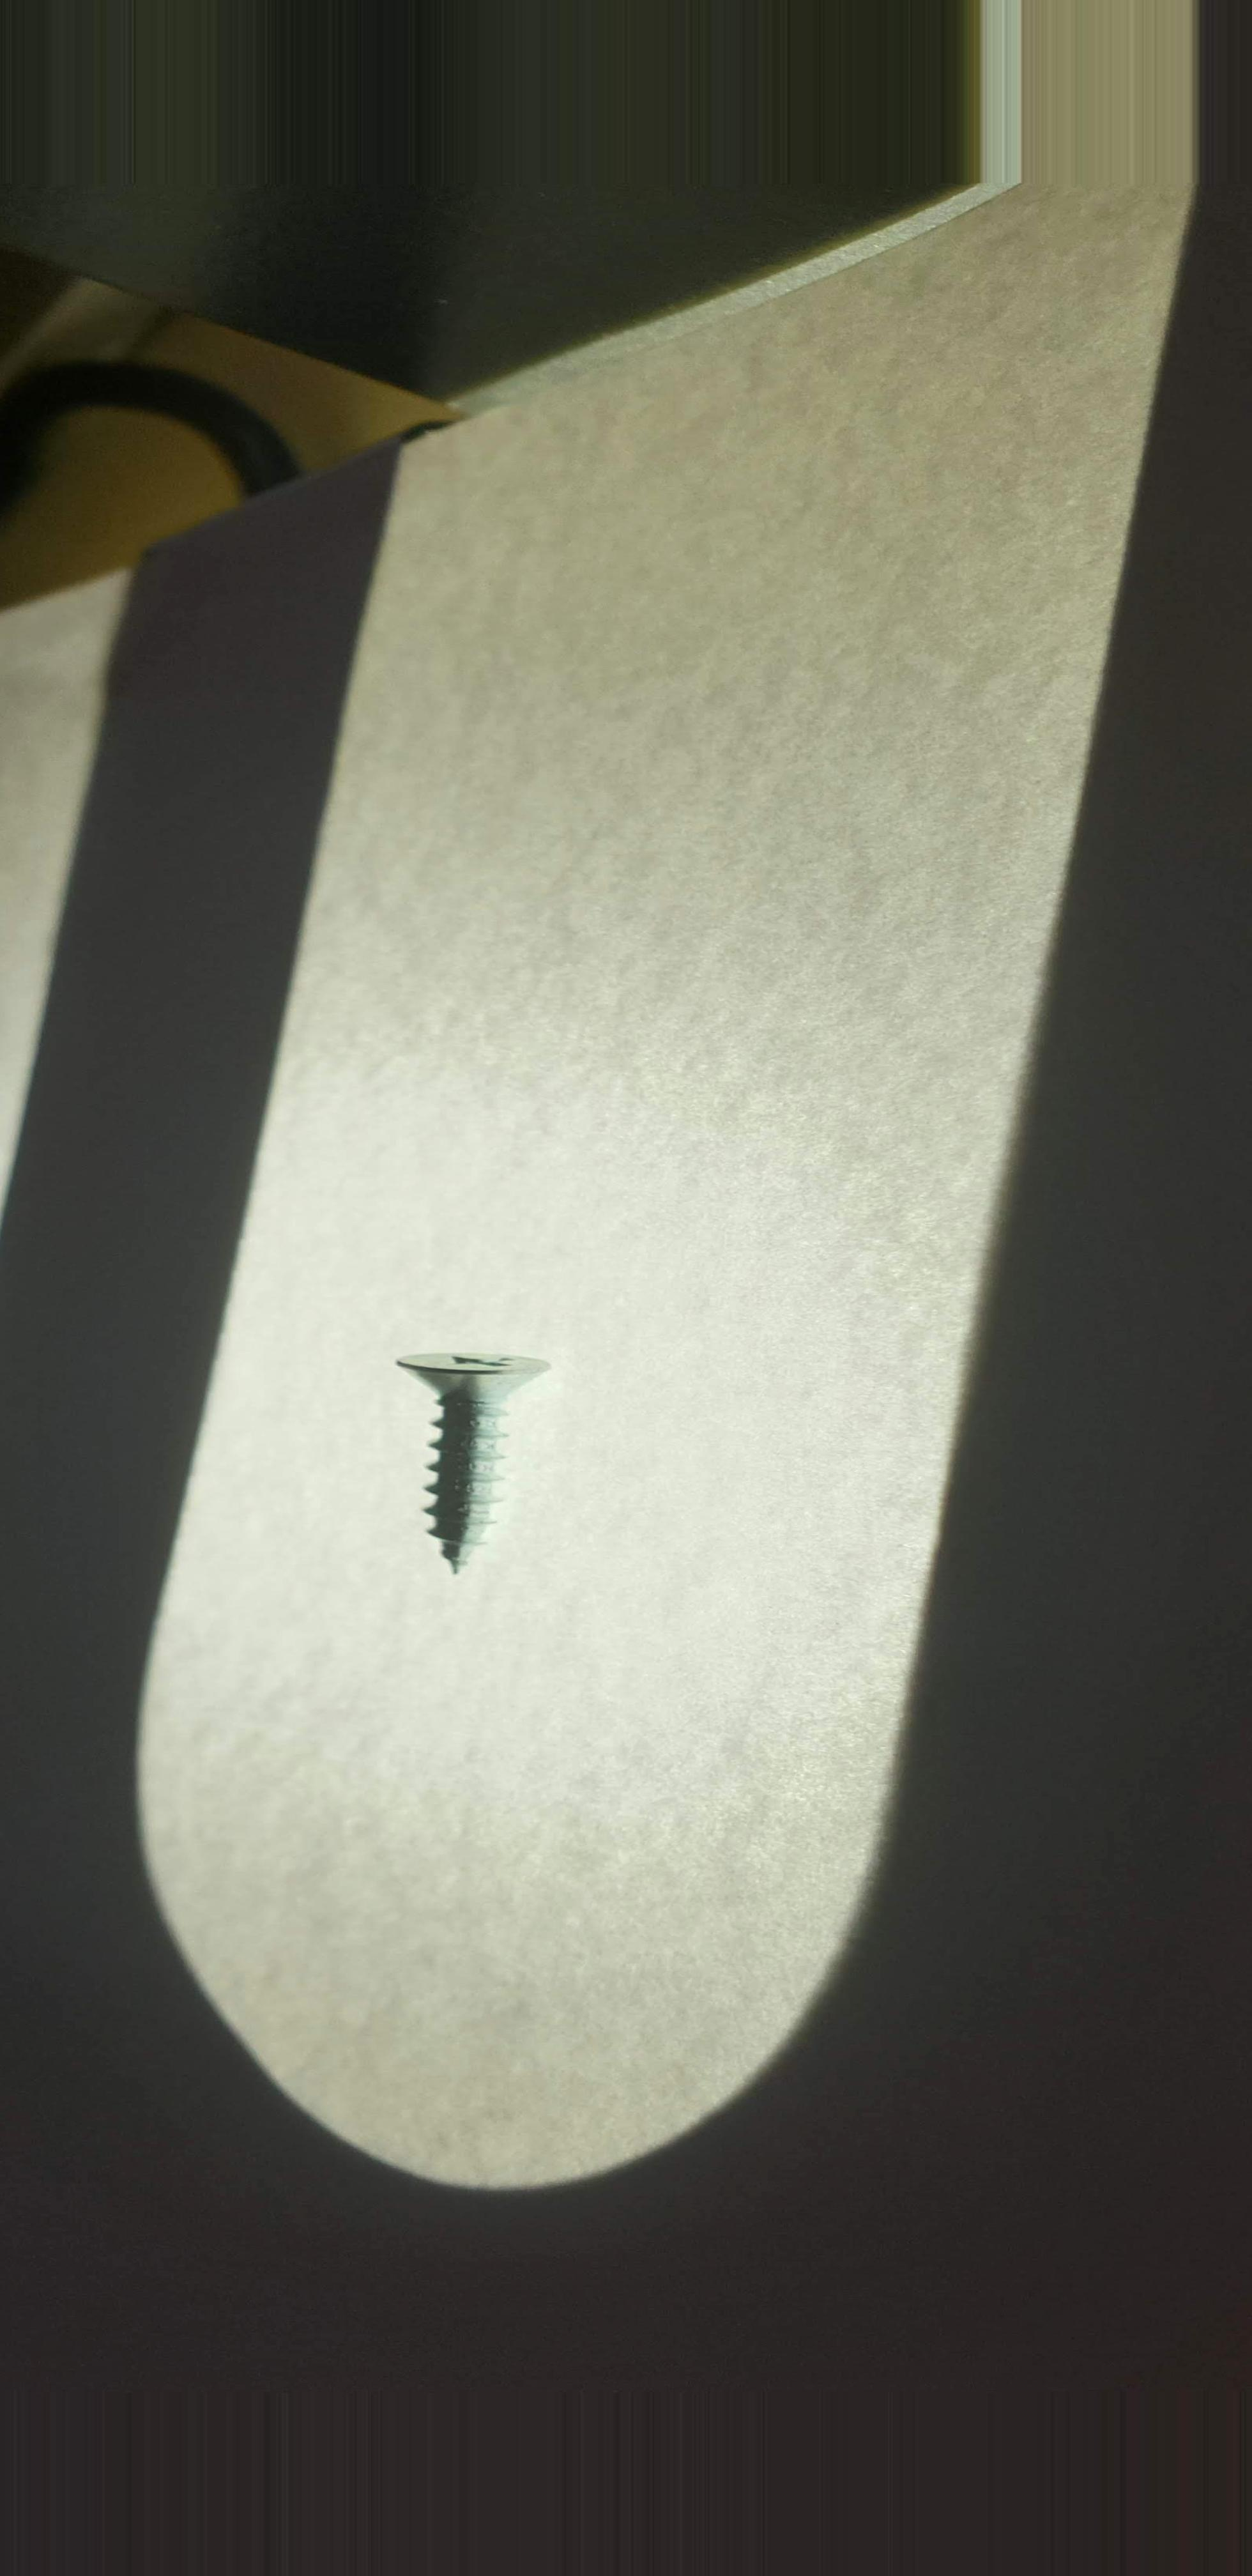S003: (365, 1319, 580, 1613)
